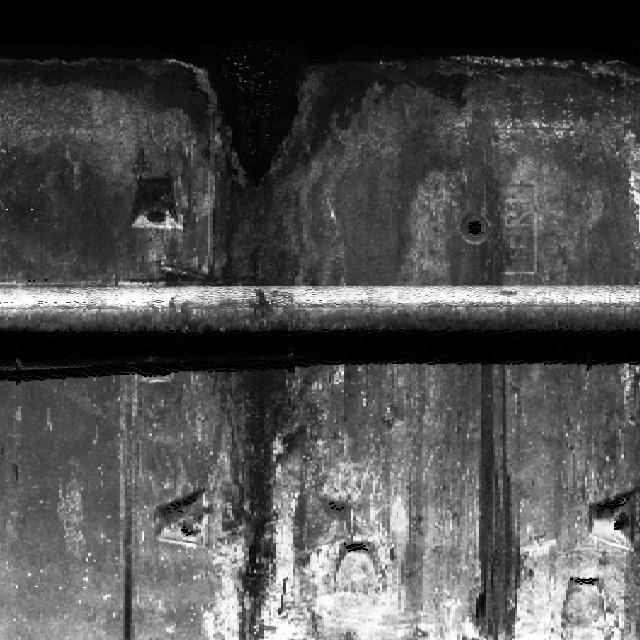leakage: (345, 0, 639, 177), (188, 0, 339, 285), (199, 362, 316, 639), (459, 360, 535, 639), (0, 0, 182, 113)
